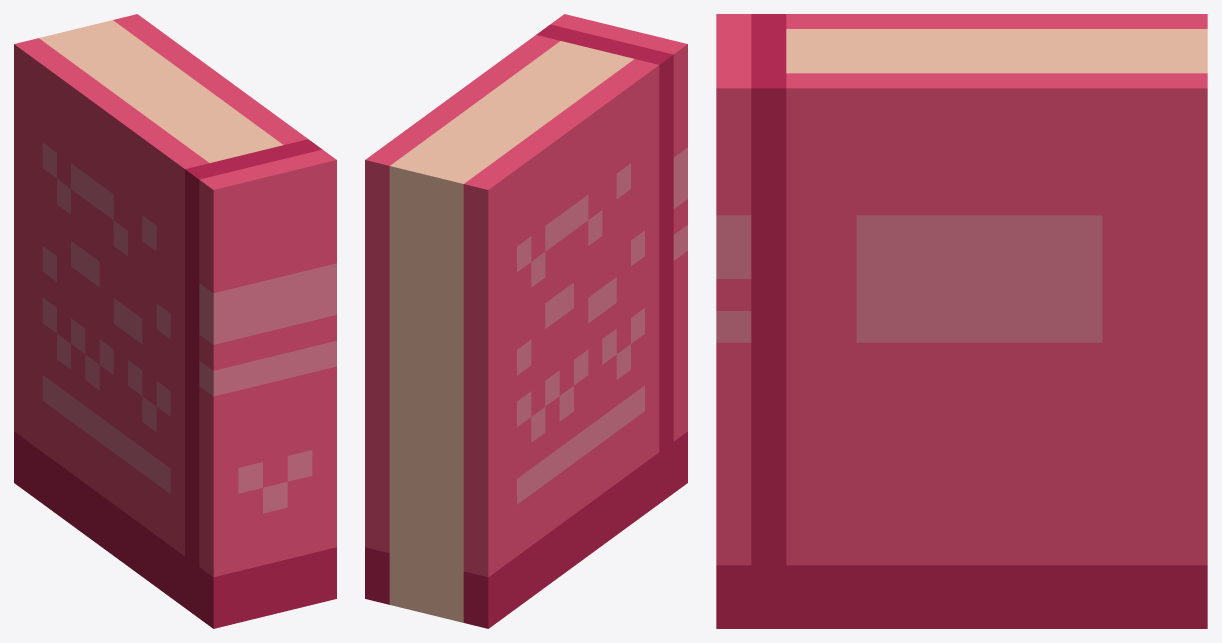
The model's file is VoxelBook6.glb.
3 views of the same model, side by side, from view 1: azimuth 30°, elevation 25°; view 2: azimuth 150°, elevation 25°; view 3: azimuth 270°, elevation 25° (orthographic). The views are drawn at different scales.
Parts seen in each view (by area): view 1: Book_6; view 2: Book_6; view 3: Book_6.
Boxes of the visible parts, x1,y1,x2,y2 form: Book_6: (14, 14, 336, 628); Book_6: (365, 14, 687, 628); Book_6: (716, 14, 1207, 628).
Bounding box in the file's own units: 0.05 × 0.17 × 0.14.
1 material, 1 textured.
